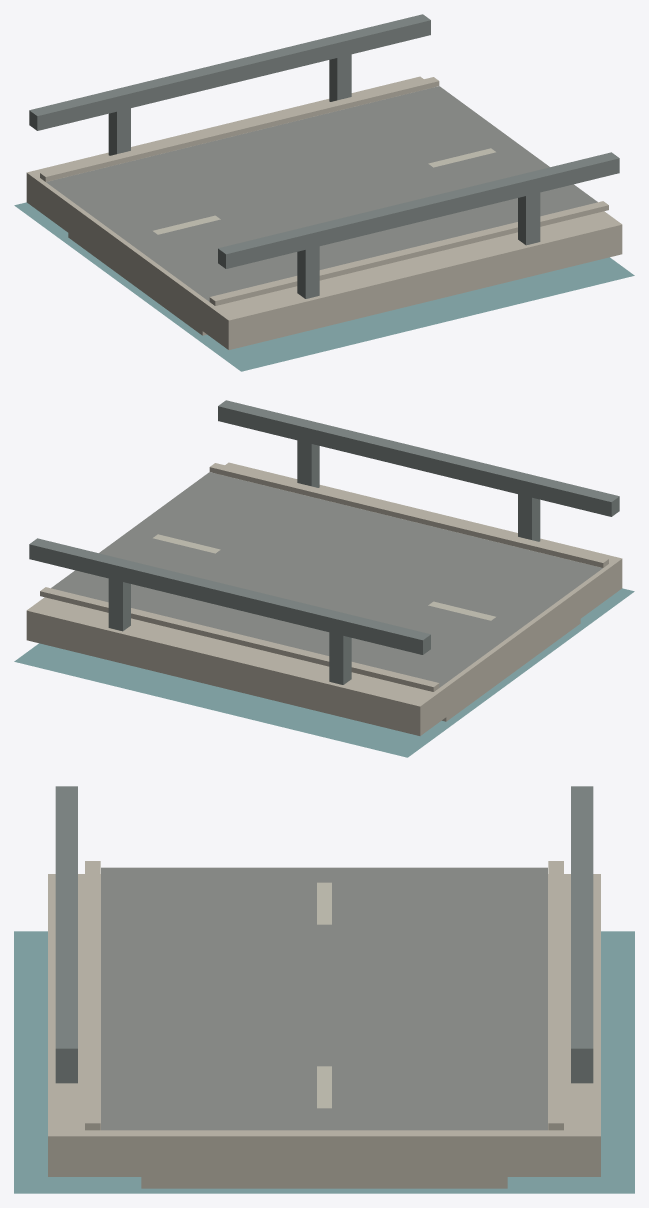
3 views of the same model, one above another, from view 1: azimuth 30°, elevation 25°; view 2: azimuth 150°, elevation 25°; view 3: azimuth 270°, elevation 25° (orthographic). The views are drawn at different scales.
Parts seen in each view (by area): view 1: Near; view 2: Near; view 3: Near.
Boxes of the visible parts, box(x1,y1,x2,y2) form: Near: box(14, 14, 634, 371); Near: box(14, 400, 634, 757); Near: box(14, 786, 634, 1193).
Bounding box in the file's own units: 1 × 0.258 × 1.
